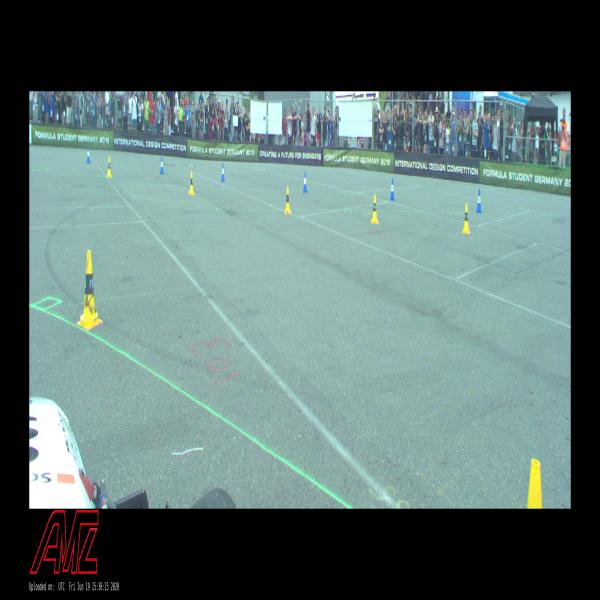blue_cone: (476, 189, 482, 212), (303, 172, 307, 193), (390, 179, 394, 200), (221, 163, 225, 181), (160, 157, 164, 174), (86, 146, 90, 162)
yellow_cone: (77, 251, 101, 329), (527, 460, 542, 507), (463, 204, 469, 233), (372, 195, 378, 223), (284, 187, 290, 213), (189, 173, 194, 194), (107, 157, 112, 176)
